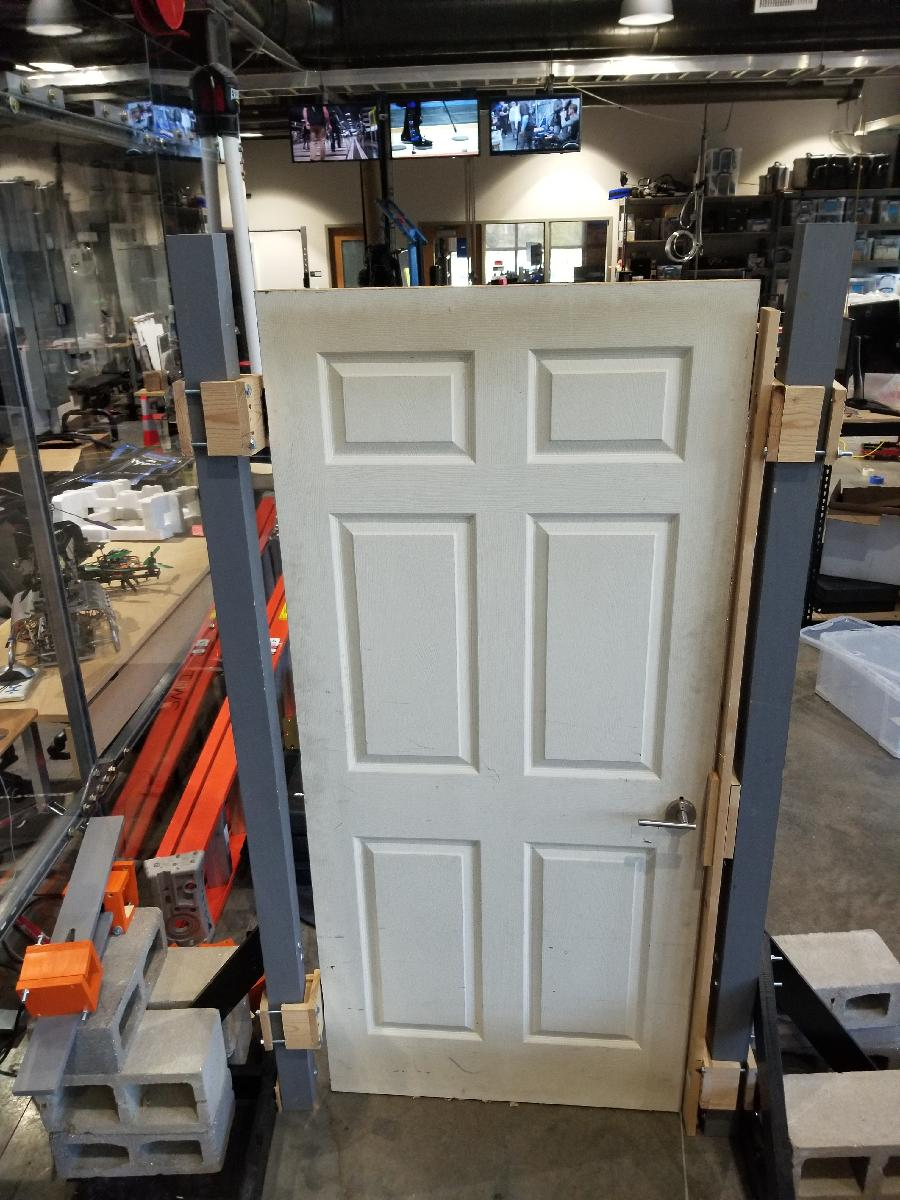door: (247, 276, 767, 1119)
doorHandle: (632, 794, 703, 841)
